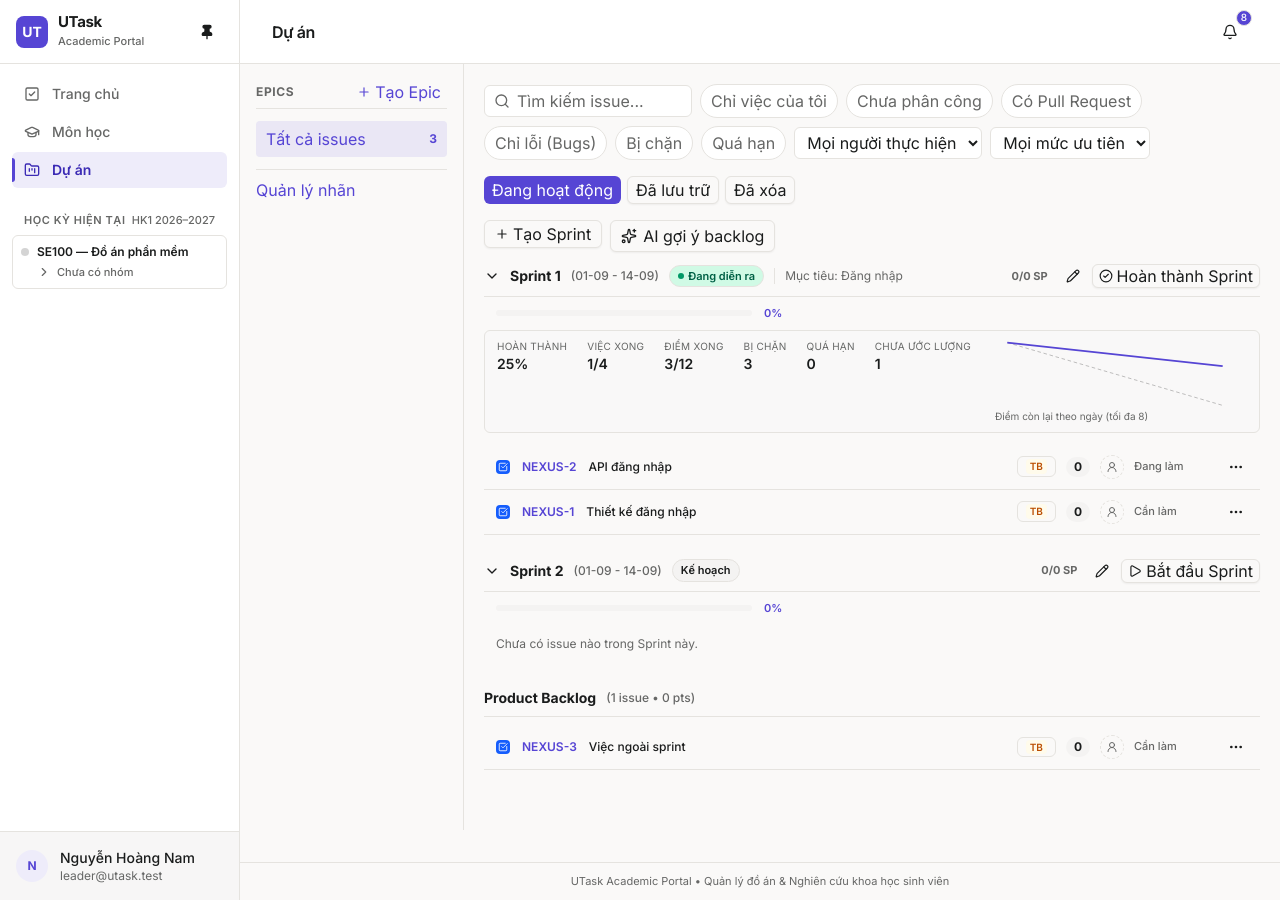
Test: Moving issues between sprints from the menu › puts the issue back and reports the server's message when the add is refused
(page scrolled)
Click the button named "Thao tác cho NEXUS-3".
click(1236, 747)  # box [1224,735,1248,759]
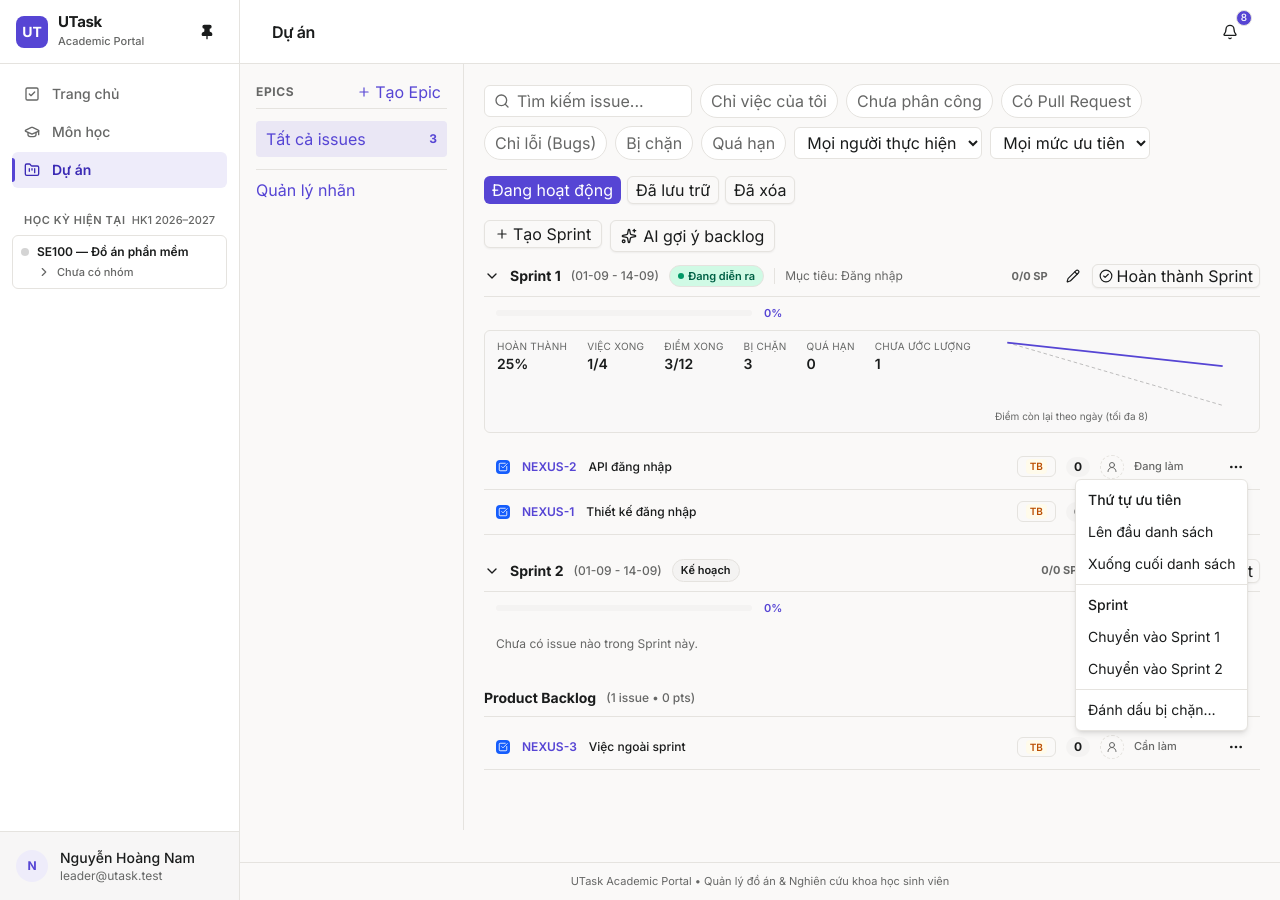
Click the menu item "Chuyển vào Sprint 2".
click(1155, 668)  # box [1088,660,1223,677]
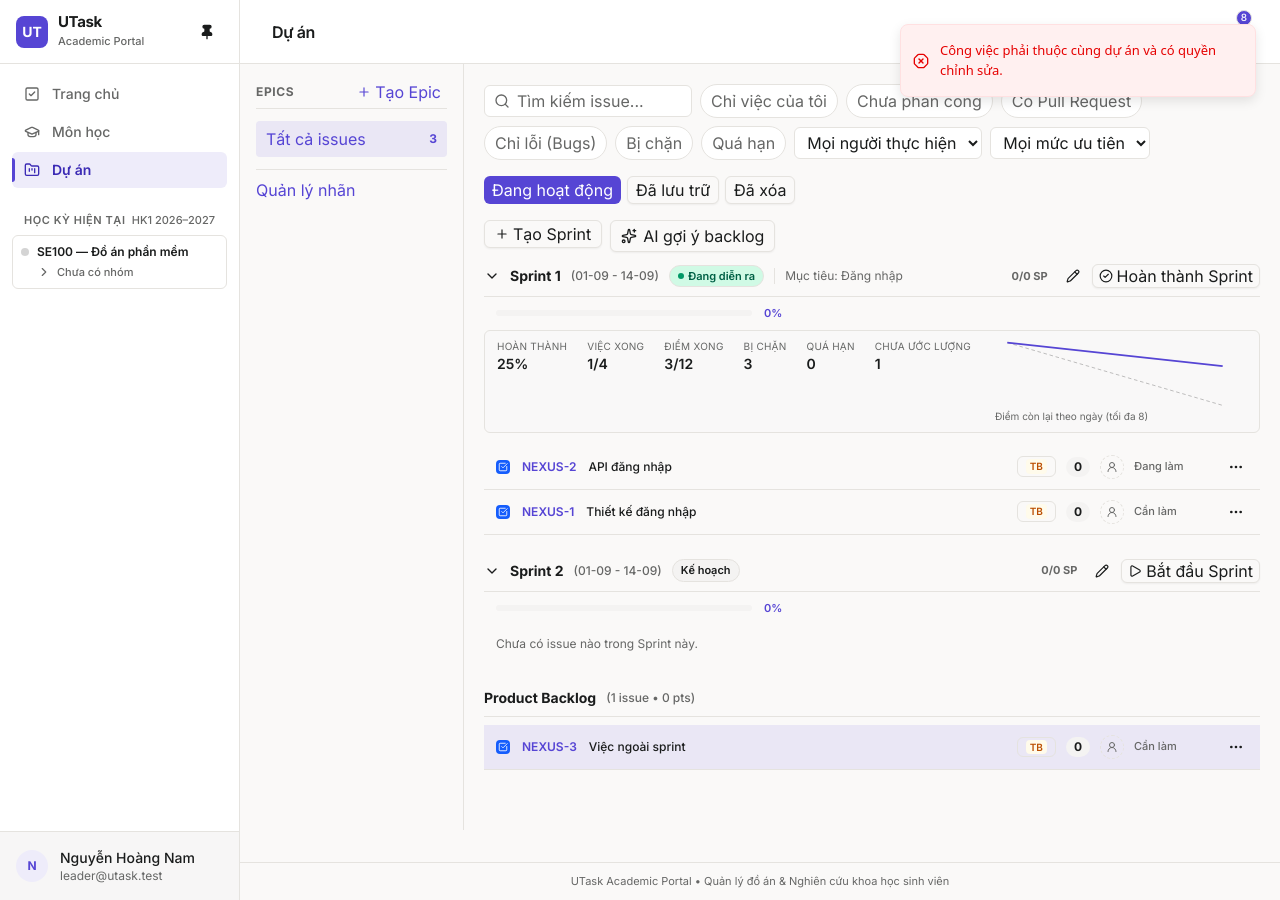
Result: the text "Công việc phải thuộc cùng dự án và có quyền chỉnh sửa." is shown at [940,41,1239,80]
